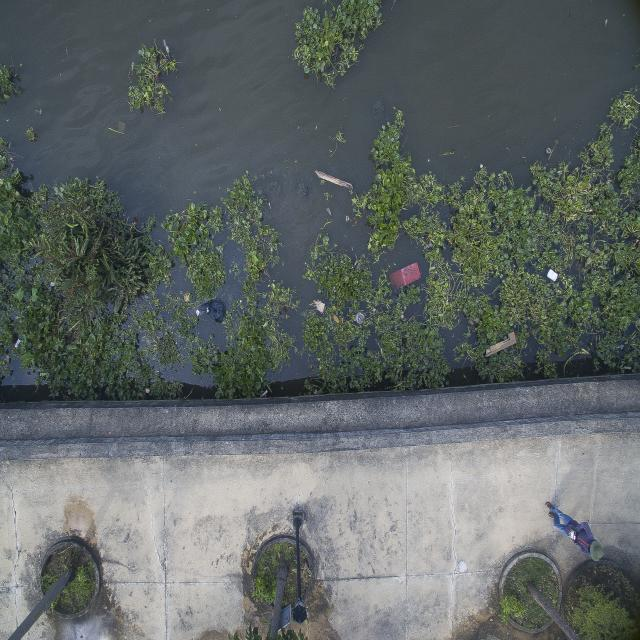debris: (314, 167, 355, 192), (482, 332, 520, 358), (389, 261, 422, 288), (545, 267, 561, 282), (314, 300, 326, 315), (62, 47, 72, 64), (257, 388, 271, 399), (354, 310, 364, 325), (48, 279, 56, 291), (183, 292, 192, 302)
plastic: (208, 299, 227, 321), (161, 40, 172, 56), (116, 117, 126, 133), (12, 338, 24, 351), (542, 146, 556, 155), (144, 384, 154, 396), (602, 14, 609, 28), (266, 199, 273, 210), (476, 164, 486, 168)
